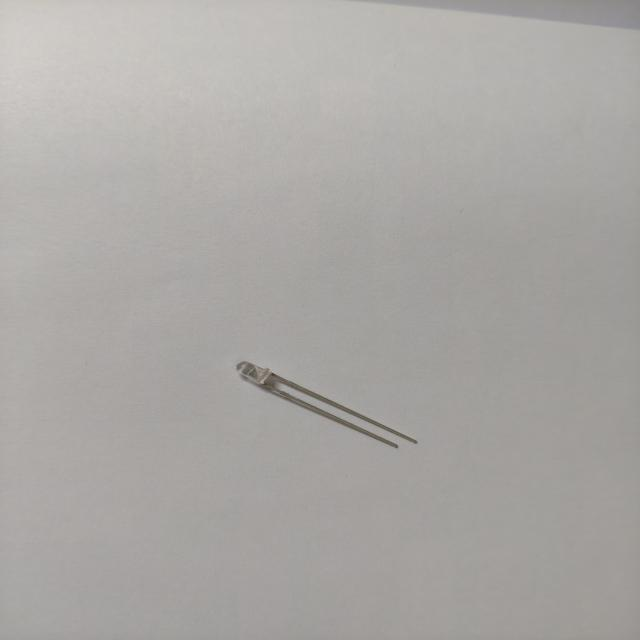led: (227, 357, 433, 462)
